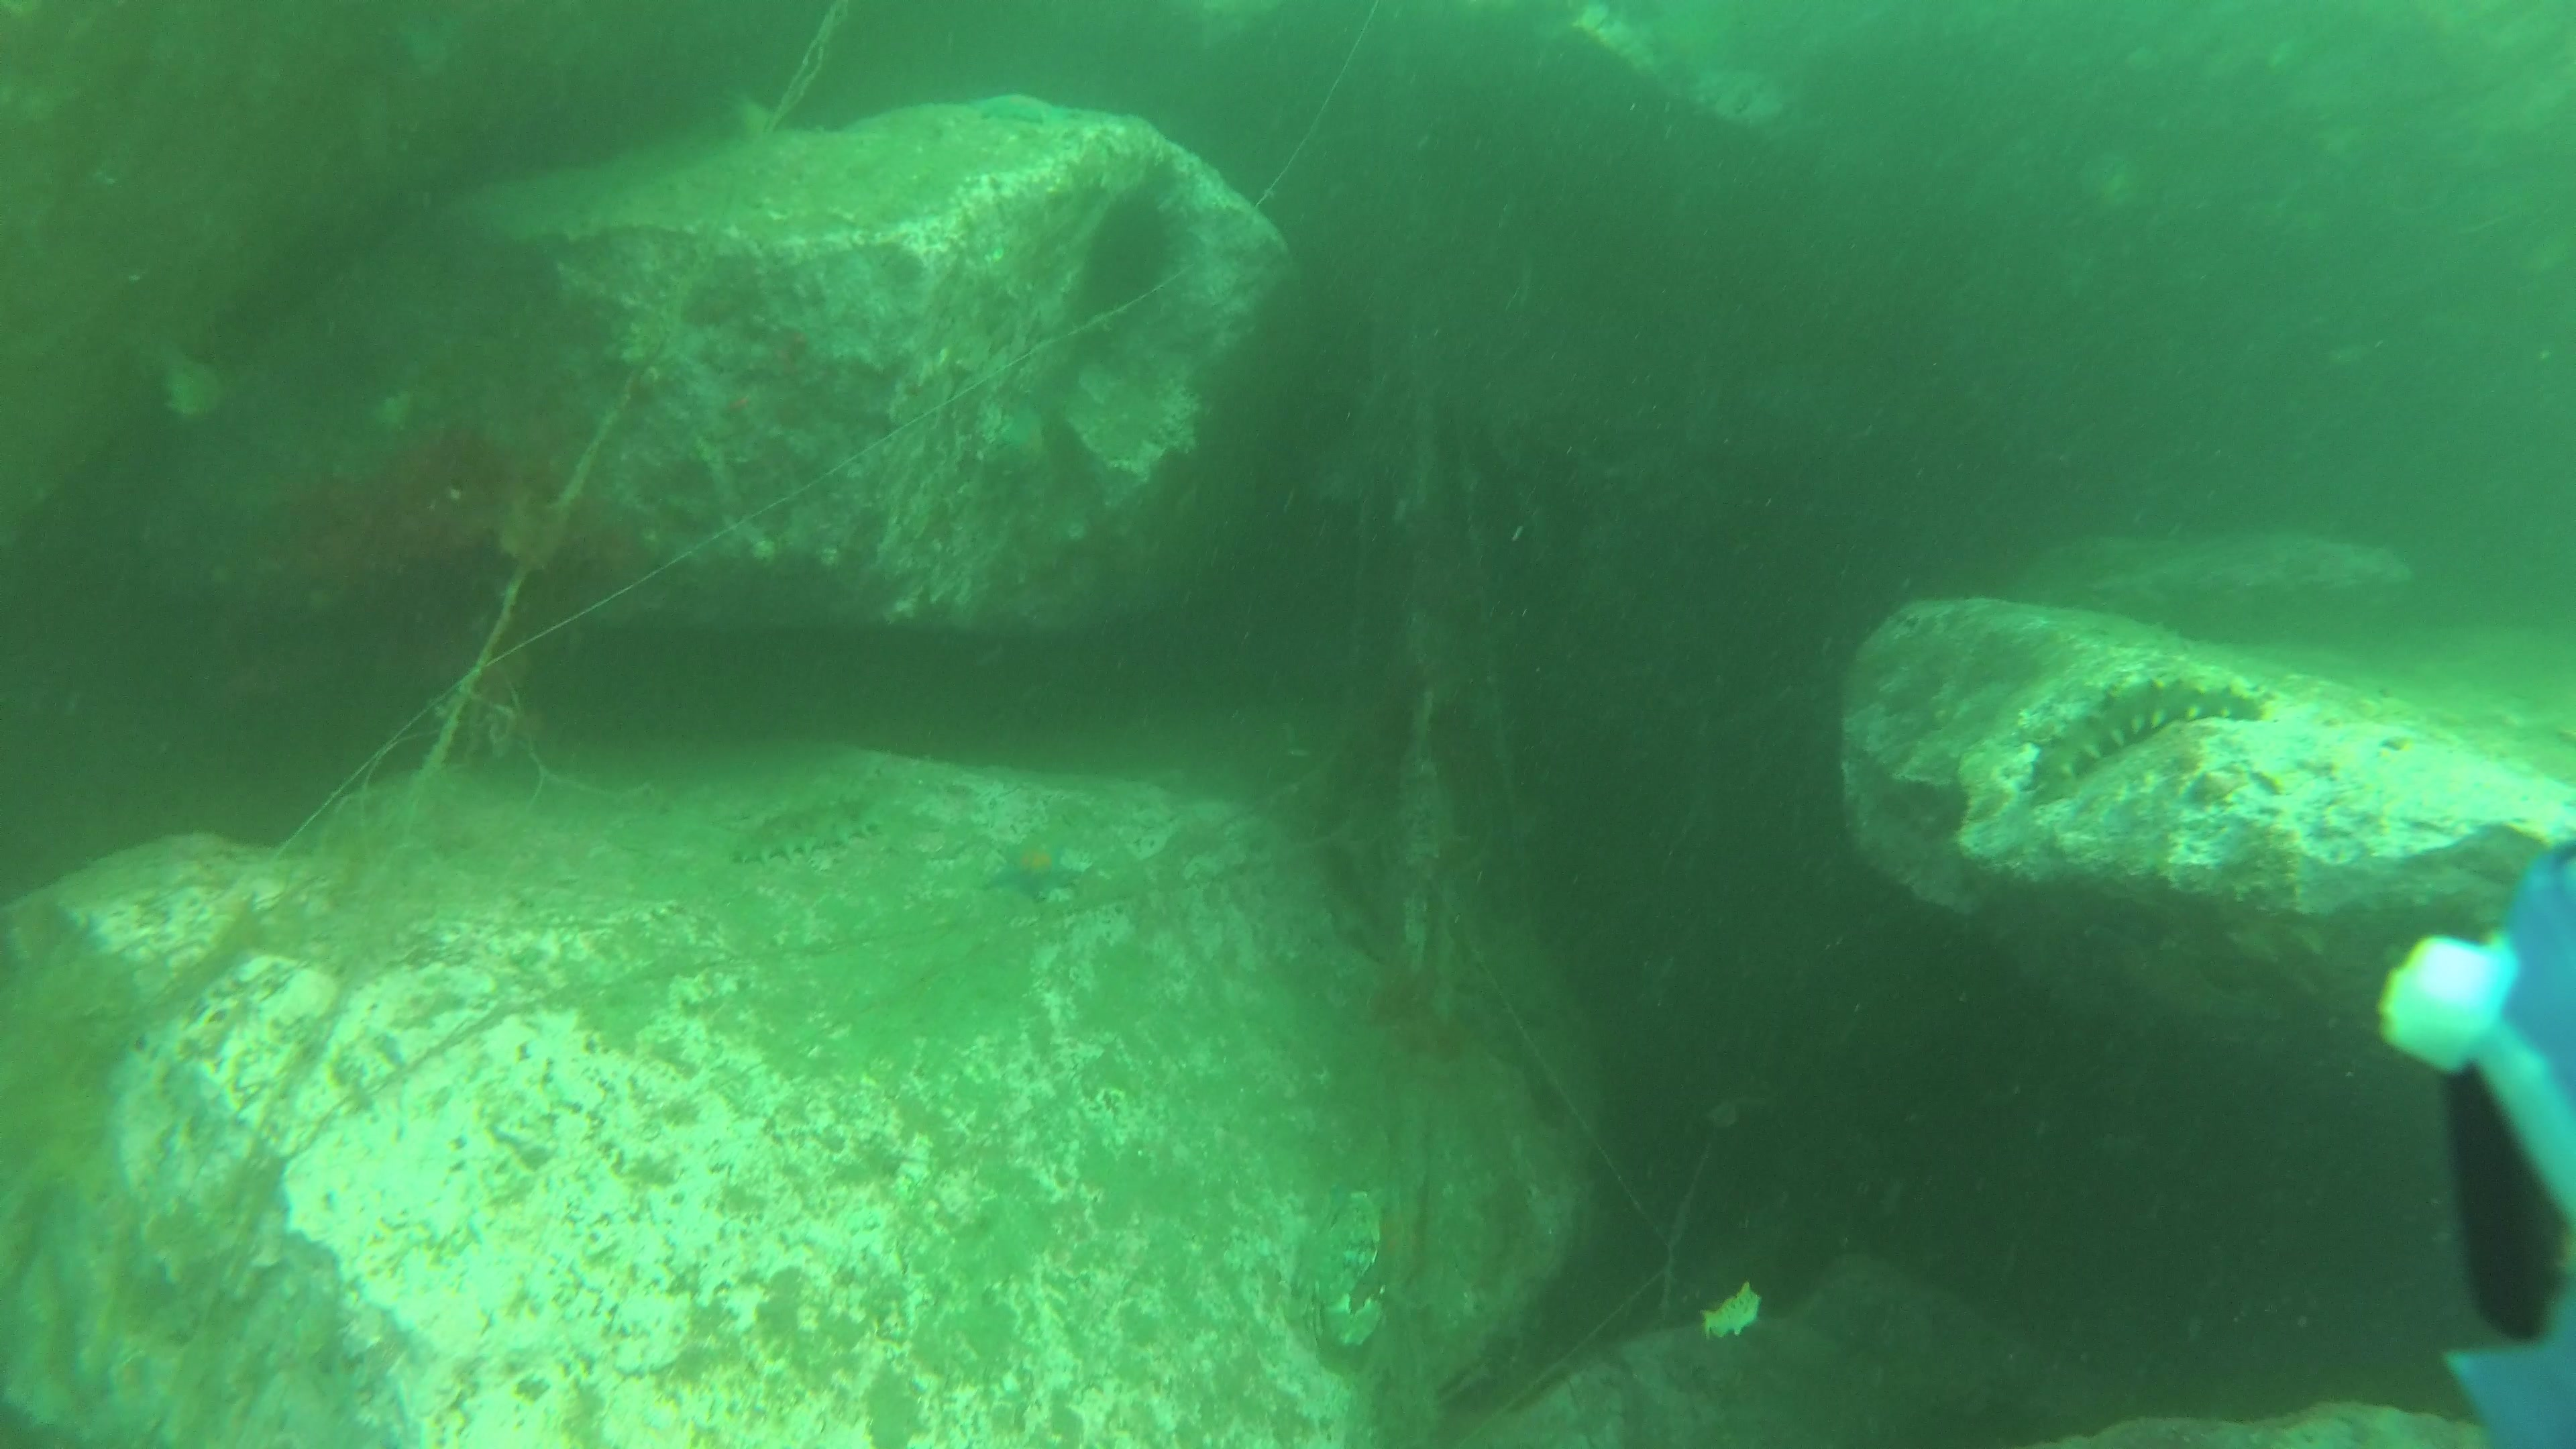echinus: (1083, 177, 1184, 318)
holothurian: (2017, 665, 2266, 812), (732, 791, 892, 869)
scallop: (1307, 1185, 1389, 1318)
starfish: (982, 824, 1079, 906), (964, 87, 1065, 131)
